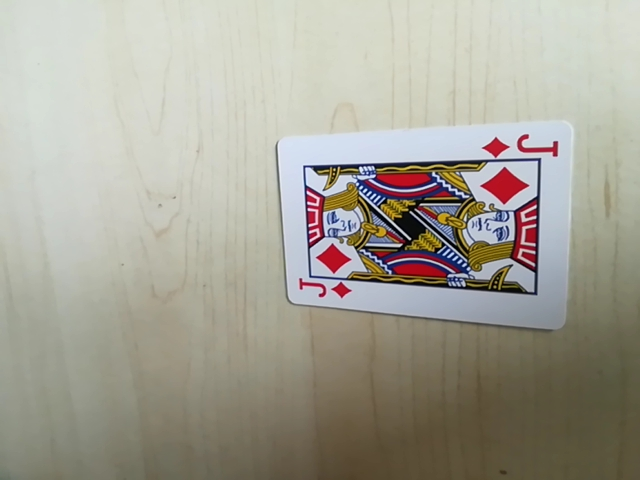fk j: (482, 129, 559, 161), (294, 278, 352, 306)
